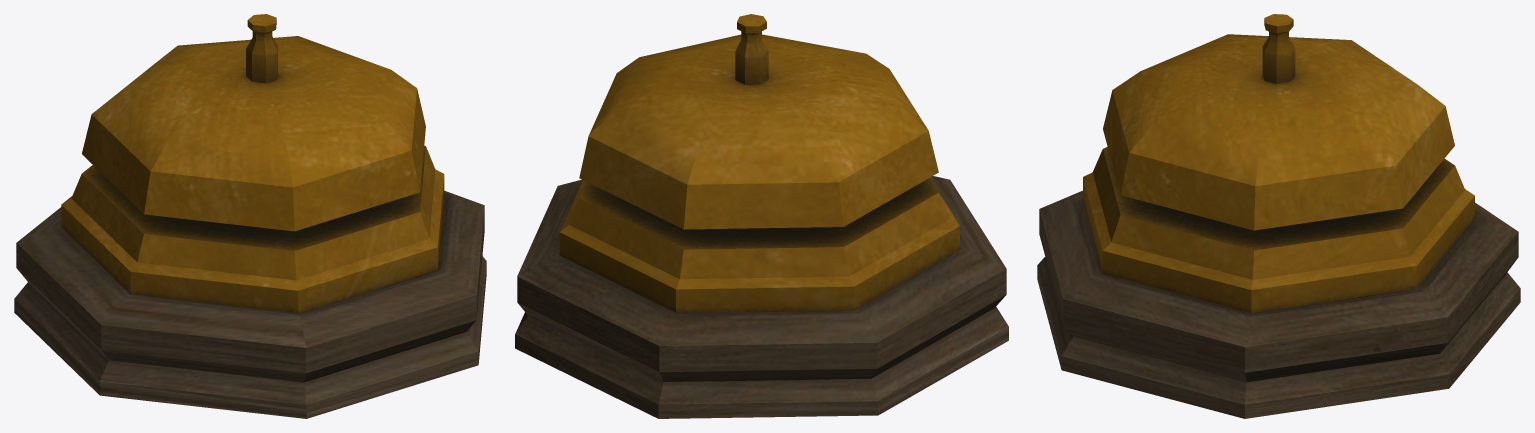
Rendered from Bell.fbx.
3 views of the same model, side by side, from view 1: azimuth 30°, elevation 25°; view 2: azimuth 150°, elevation 25°; view 3: azimuth 270°, elevation 25° (orthographic). The views are drawn at different scales.
Parts seen in each view (by area): view 1: Cylinder; view 2: Cylinder; view 3: Cylinder.
Part boxes in pixels (x1,y1,x2,y2): Cylinder: (14,14,486,418); Cylinder: (515,14,1008,418); Cylinder: (1037,14,1520,418).
Size of the model in its own units: 0.1938 by 0.1312 by 0.1938.
